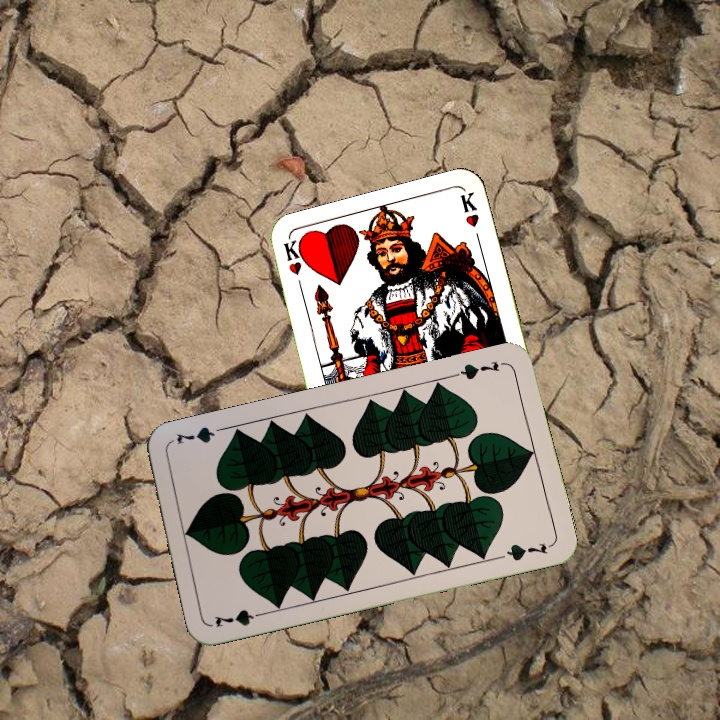G7: (210, 605, 270, 630), (451, 357, 502, 383)
HK: (279, 238, 307, 297)
